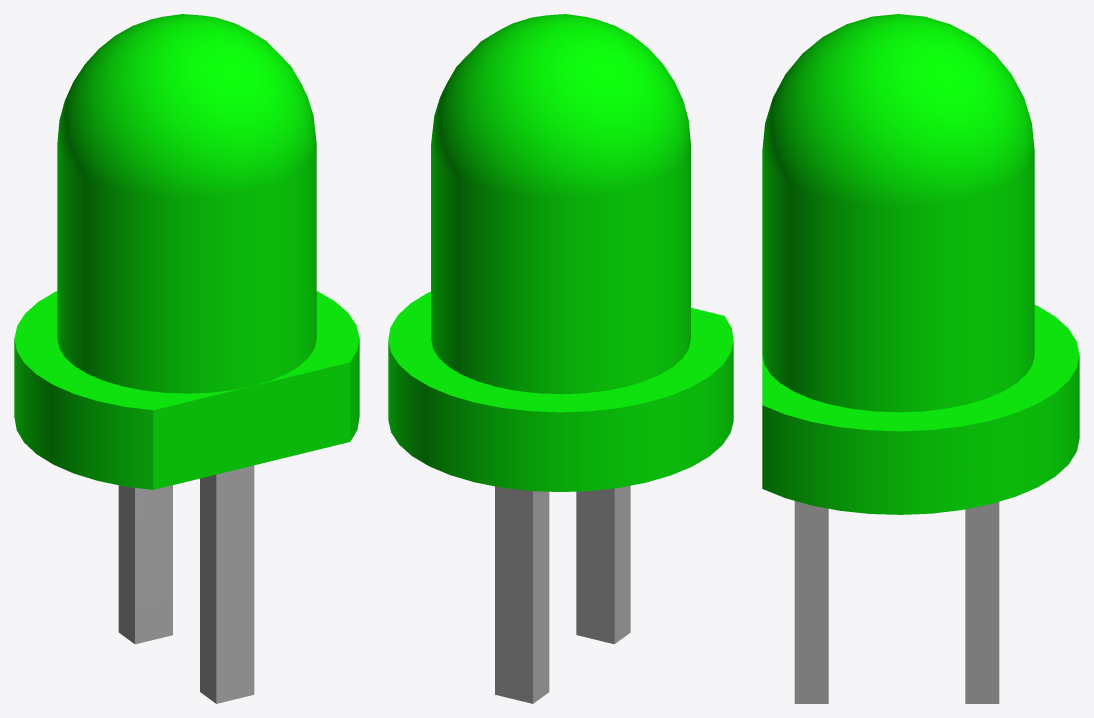
The model's file is led con lado plano.fbx.
3 renders of one model, left to right at view 1: azimuth 30°, elevation 25°; view 2: azimuth 150°, elevation 25°; view 3: azimuth 270°, elevation 25°, orthographic. The views are drawn at different scales.
Parts seen in each view (by area): view 1: Green LED; view 2: Green LED; view 3: Green LED.
Part boxes in pixels (x1,y1,x2,y2): Green LED: [14, 14, 359, 703]; Green LED: [388, 14, 733, 703]; Green LED: [762, 14, 1079, 703].
Size of the model in its own units: 0.3987 by 0.8119 by 0.3493.
